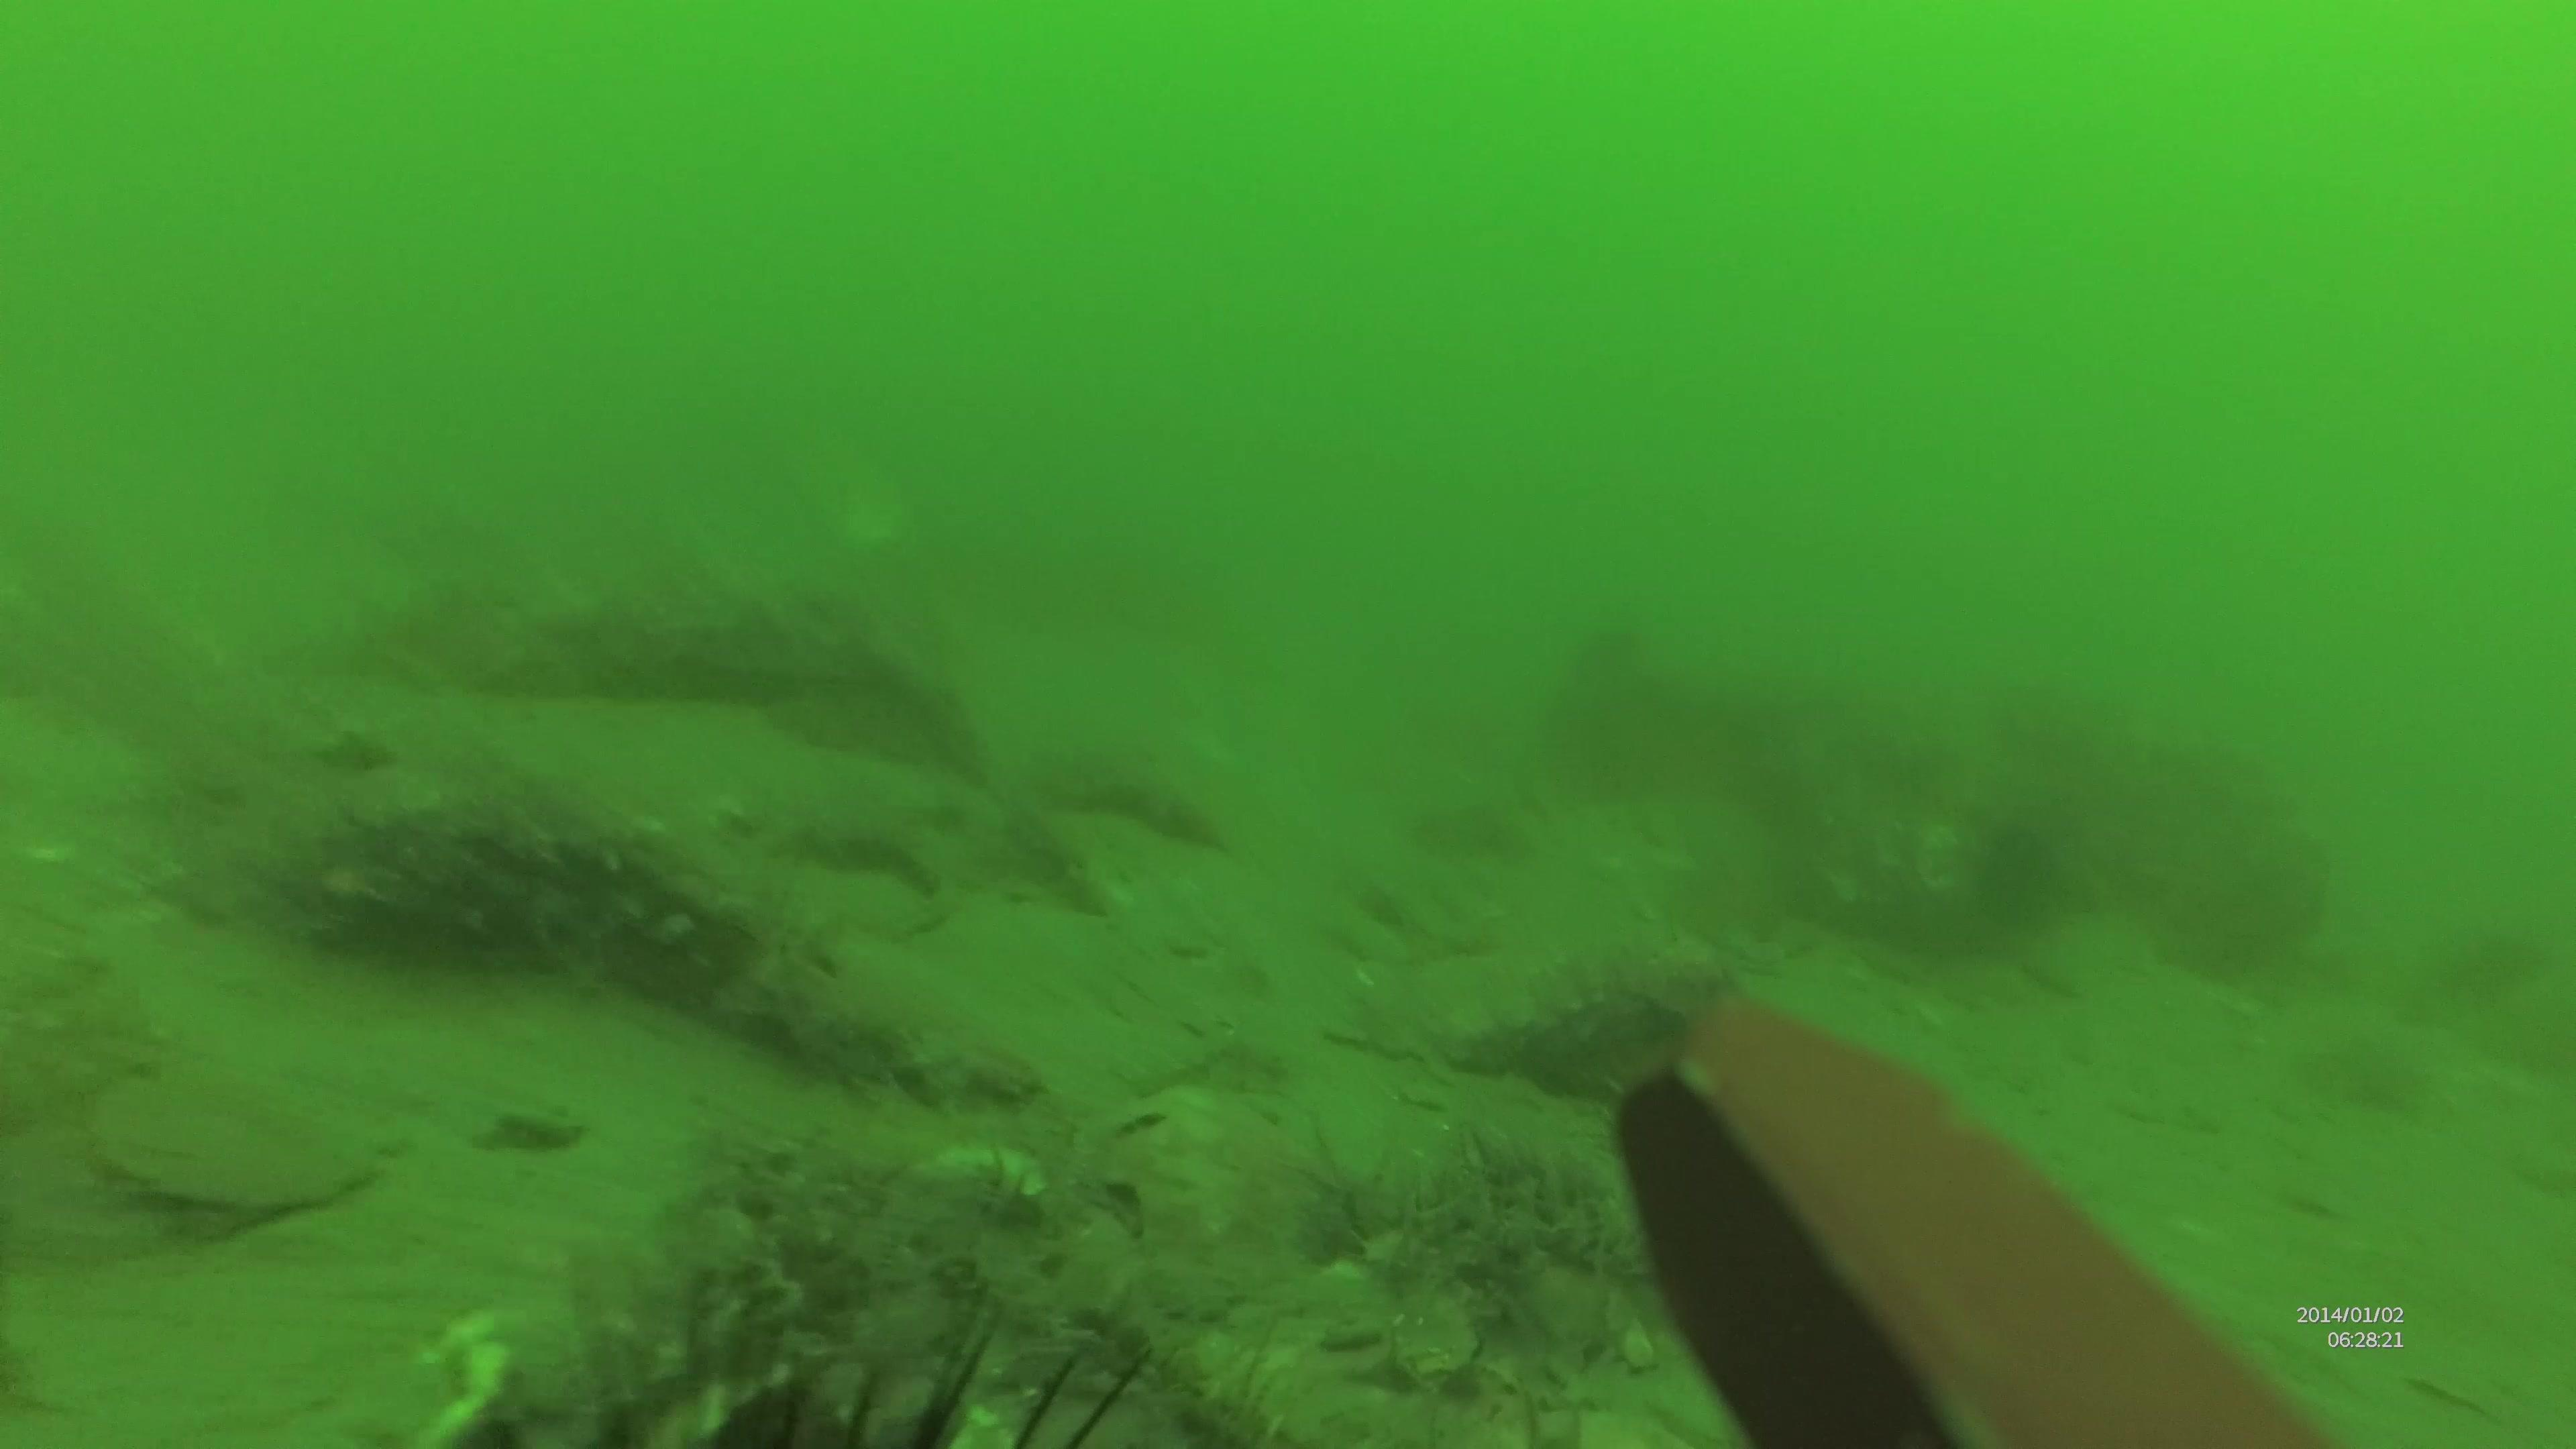echinus: (453, 1272, 1173, 1449)
